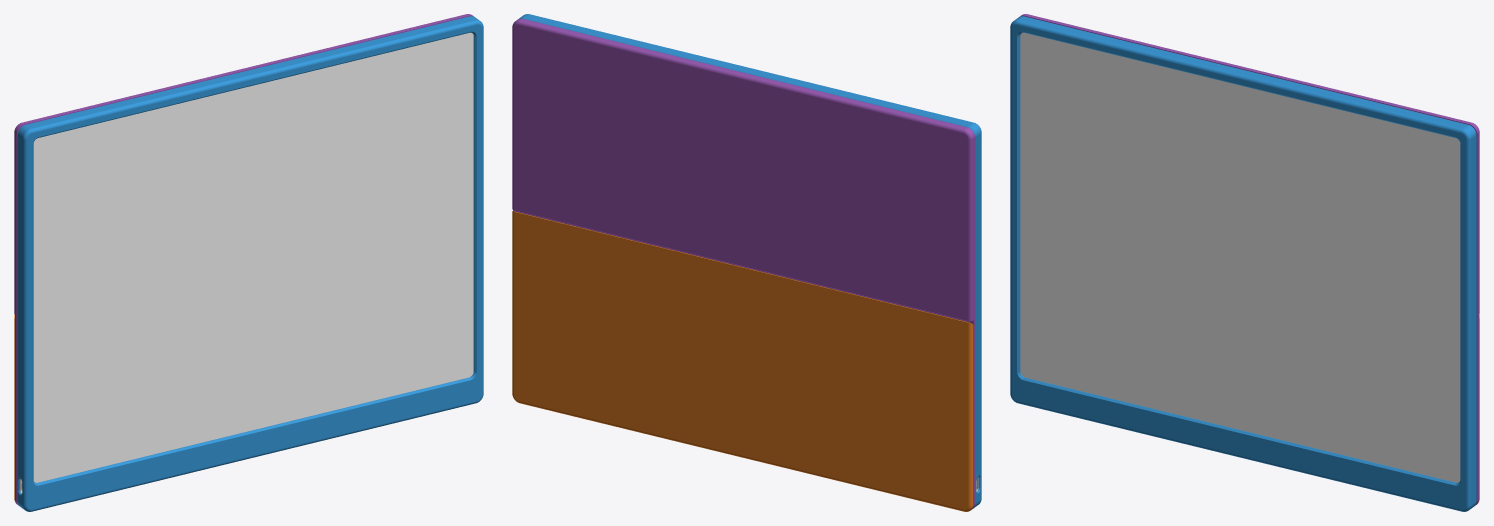
The model's file is Assembly.dae.
3 renders of one model, left to right at view 1: azimuth 30°, elevation 25°; view 2: azimuth 150°, elevation 25°; view 3: azimuth 330°, elevation 25°, orthographic.
Visible parts, largest first — view 1: node0, node1, node3; view 2: node3, node4, node1; view 3: node0, node1, node3.
Part boxes in pixels (<box>): node0: <box>33,32,473,482</box>; node1: <box>17,16,483,511</box>; node3: <box>14,14,473,505</box>; node3: <box>512,18,975,509</box>; node4: <box>512,211,973,511</box>; node1: <box>519,14,981,508</box>; node0: <box>1020,32,1460,482</box>; node1: <box>1010,16,1476,511</box>; node3: <box>1020,14,1479,505</box>.
Size of the model in its own units: 0.2803 by 0.0123 by 0.2227.
